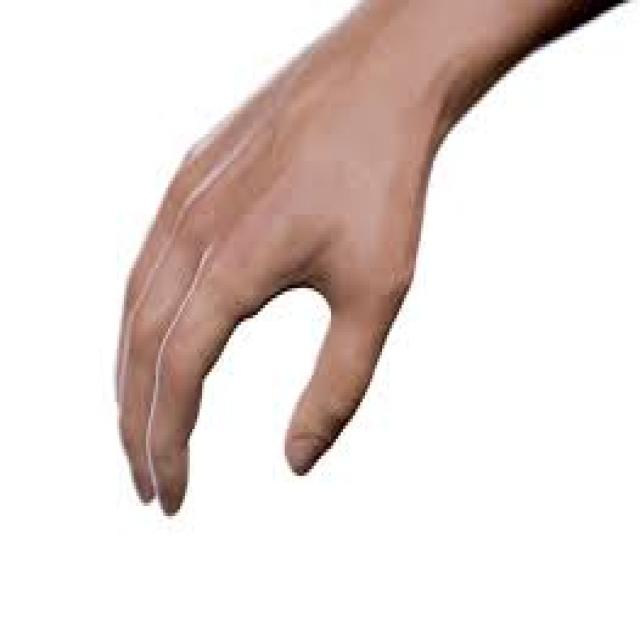hand: (93, 37, 454, 571)
